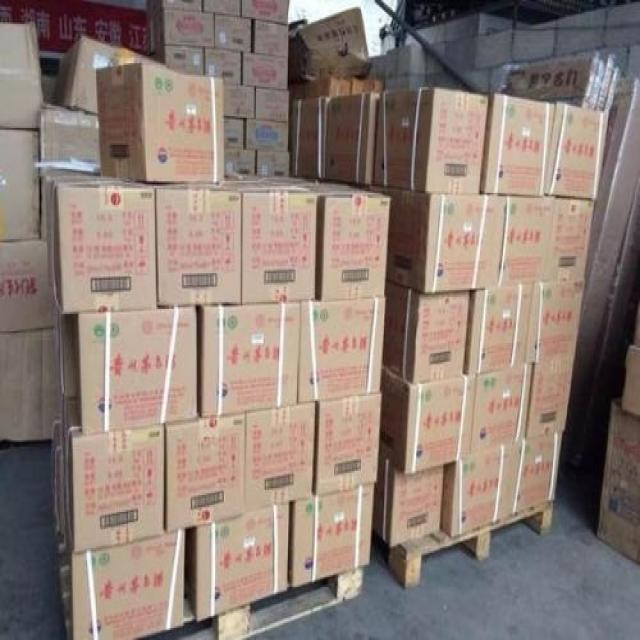box: (260, 176, 390, 300), (61, 399, 166, 551), (45, 174, 157, 314), (95, 65, 225, 183), (78, 309, 198, 435), (372, 183, 507, 295), (442, 430, 563, 539), (70, 529, 187, 640), (186, 503, 291, 621), (196, 300, 301, 416), (374, 89, 488, 195), (148, 183, 242, 309), (225, 177, 317, 304), (379, 365, 479, 474), (165, 413, 246, 534), (296, 297, 387, 404), (381, 278, 468, 386), (51, 36, 168, 114), (40, 102, 104, 244), (287, 485, 375, 585), (481, 90, 556, 198), (246, 403, 315, 515), (595, 398, 640, 565), (312, 393, 383, 497), (372, 452, 445, 546), (543, 102, 609, 200), (288, 5, 371, 82), (468, 364, 534, 456), (466, 285, 534, 372), (497, 195, 556, 288), (325, 92, 381, 186), (525, 280, 585, 365), (0, 239, 52, 335), (0, 22, 45, 130), (0, 130, 40, 244), (545, 196, 596, 283), (525, 358, 575, 439), (289, 97, 328, 179), (289, 77, 384, 101), (621, 309, 640, 420), (165, 9, 214, 48), (242, 53, 288, 89), (214, 12, 252, 55), (251, 17, 288, 60), (244, 118, 289, 152), (205, 46, 243, 85), (239, 0, 288, 26), (165, 46, 206, 75), (225, 82, 256, 119), (256, 89, 289, 123), (225, 145, 256, 181), (256, 150, 291, 177), (225, 114, 244, 150), (204, 0, 241, 15), (163, 0, 204, 10)
